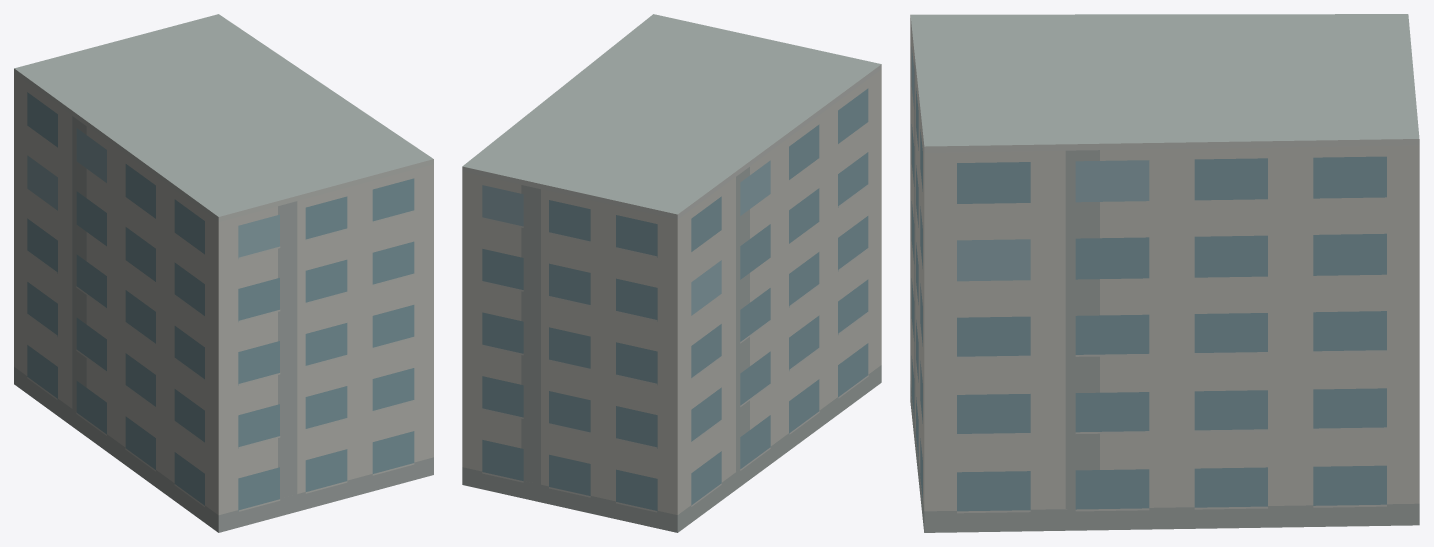
The model's file is survey-upis-32494038.glb.
3 views of the same model, side by side, from view 1: azimuth 30°, elevation 25°; view 2: azimuth 150°, elevation 25°; view 3: azimuth 270°, elevation 25° (orthographic). The views are drawn at different scales.
Parts seen in each view (by area): view 1: survey-upis-32494038.tmp; view 2: survey-upis-32494038.tmp; view 3: survey-upis-32494038.tmp.
Boxes of the visible parts, <box> form: survey-upis-32494038.tmp: <box>14,14,433,532</box>; survey-upis-32494038.tmp: <box>462,14,881,532</box>; survey-upis-32494038.tmp: <box>910,14,1419,532</box>.
Size of the model in its own units: 10.93 by 14.85 by 17.74.
